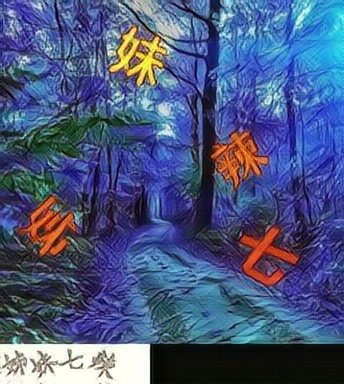C0B1: (208, 127, 270, 191)
C3C3: (108, 25, 170, 89)
C6DF: (239, 221, 301, 285)
E6A2: (14, 192, 76, 256)
